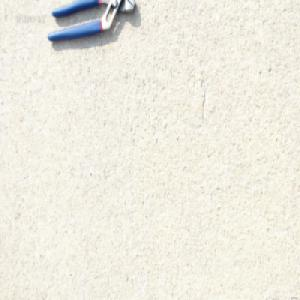Pliers: (46, 0, 135, 45)
